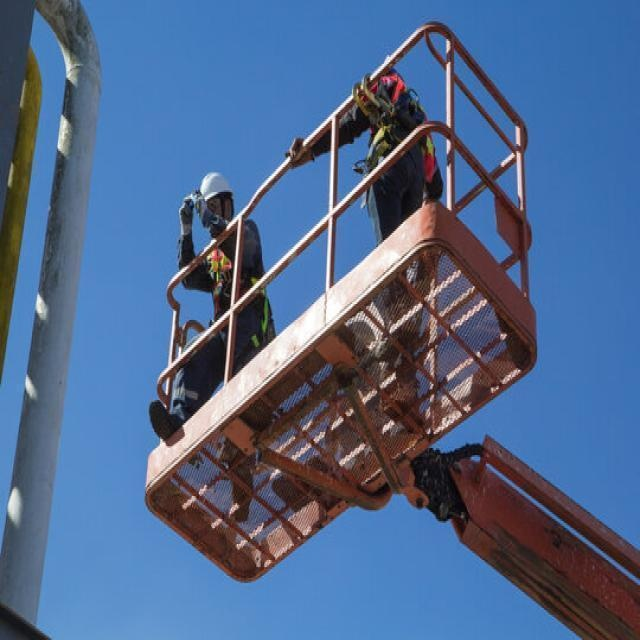Arnes_seguridad: (349, 72, 429, 184), (196, 227, 276, 339)
